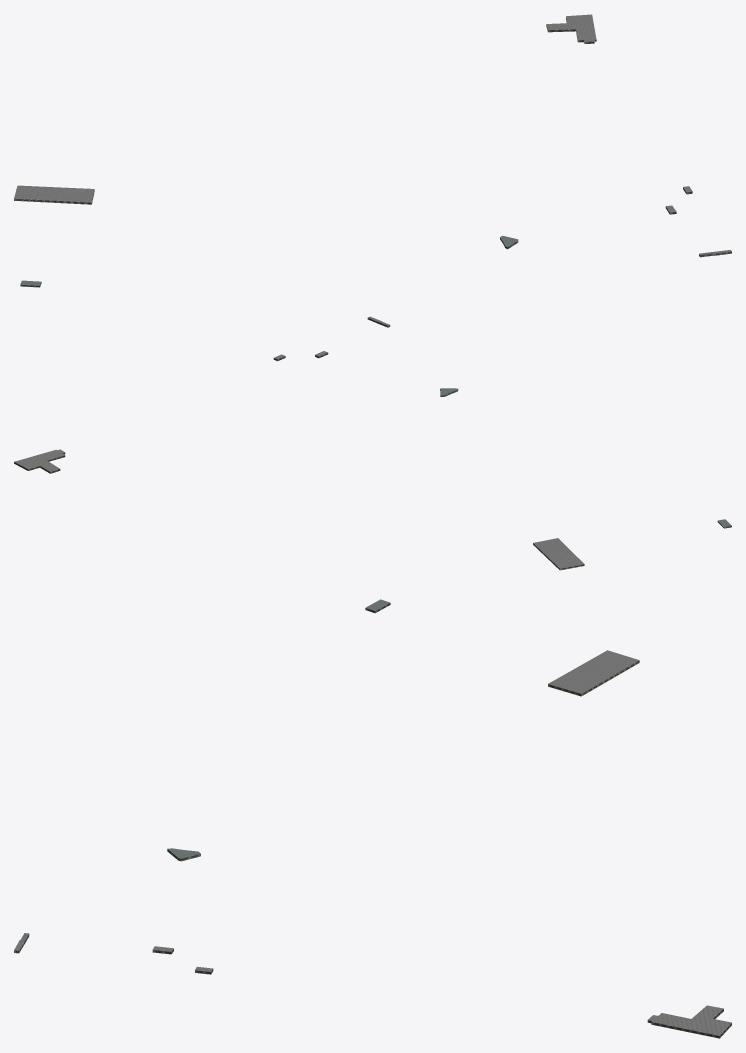
3 renders of one model, top to bottom at view 1: azimuth 30°, elevation 25°; view 2: azimuth 150°, elevation 25°; view 3: azimuth 270°, elevation 25°, orthographic. The views are drawn at different scales.
Visible parts, largest first — view 1: SlateRoof; view 2: SlateRoof; view 3: SlateRoof.
Part boxes in pixels (left/top/right/bottom): SlateRoof: left=14, top=14, right=731, bottom=253; SlateRoof: left=14, top=316, right=583, bottom=568; SlateRoof: left=14, top=650, right=731, bottom=1035.
Size of the model in its own units: 1722 by 5.23 by 1195.
Materials: 6 (6 with a texture image).
